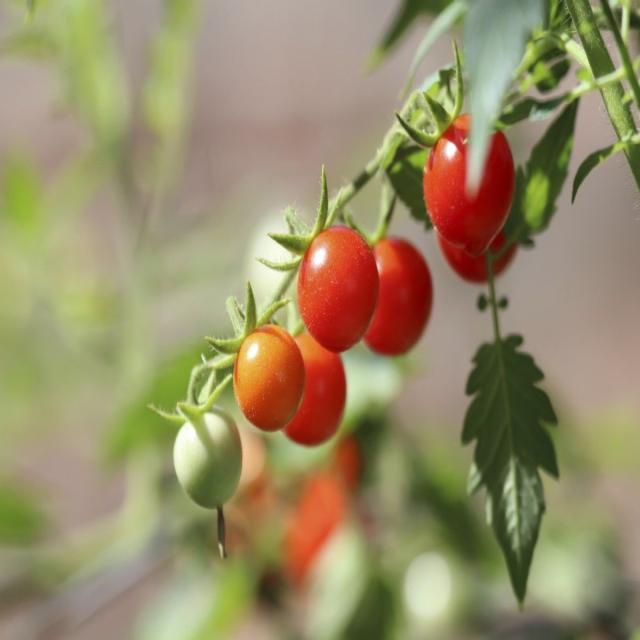level 3: (173, 410, 241, 511)
level 5: (274, 339, 352, 452), (235, 323, 304, 433)
level 6: (425, 114, 514, 250), (292, 224, 380, 350), (354, 236, 436, 359), (442, 162, 524, 282)
